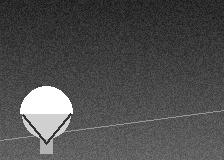helmet: (20, 86, 72, 143)
